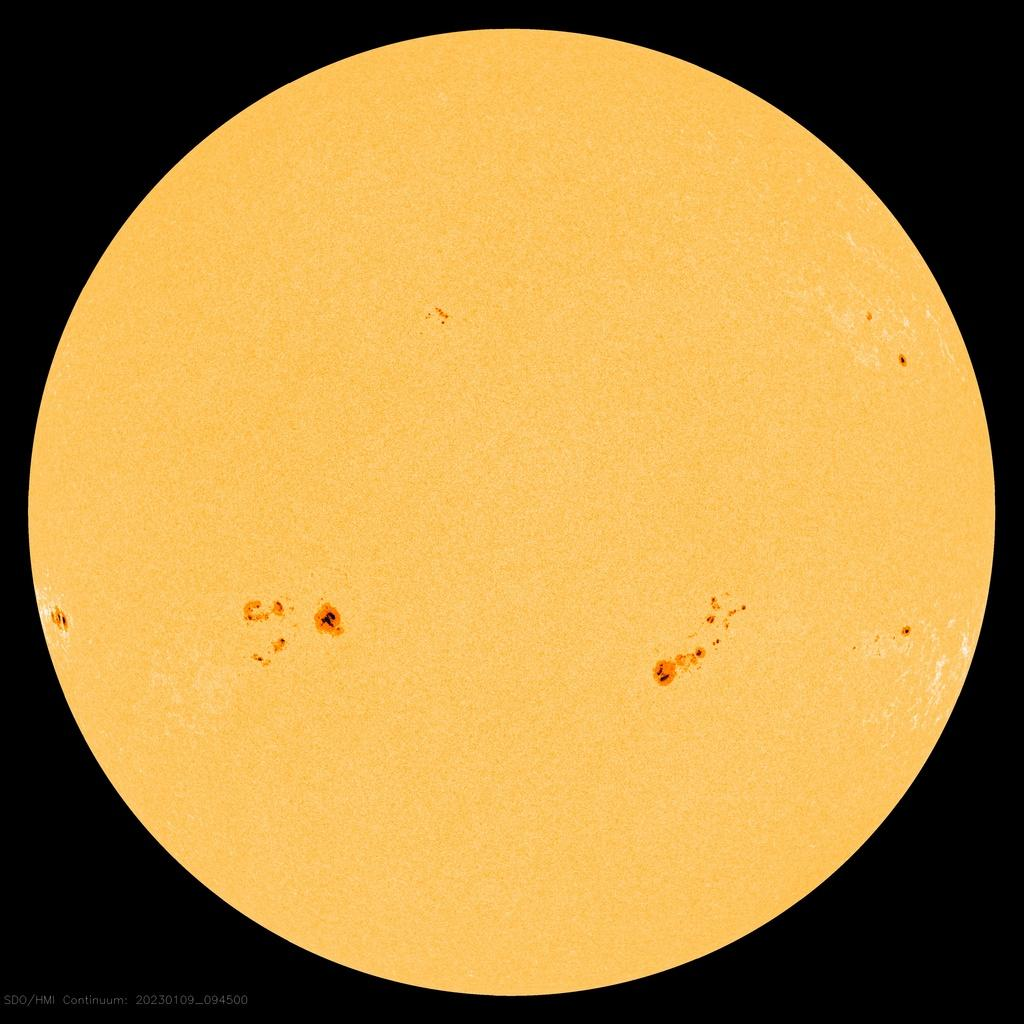flare: (643, 585, 760, 694), (225, 590, 356, 673), (37, 594, 86, 644), (420, 292, 458, 340), (852, 295, 879, 333), (893, 616, 922, 647), (892, 347, 915, 375)
